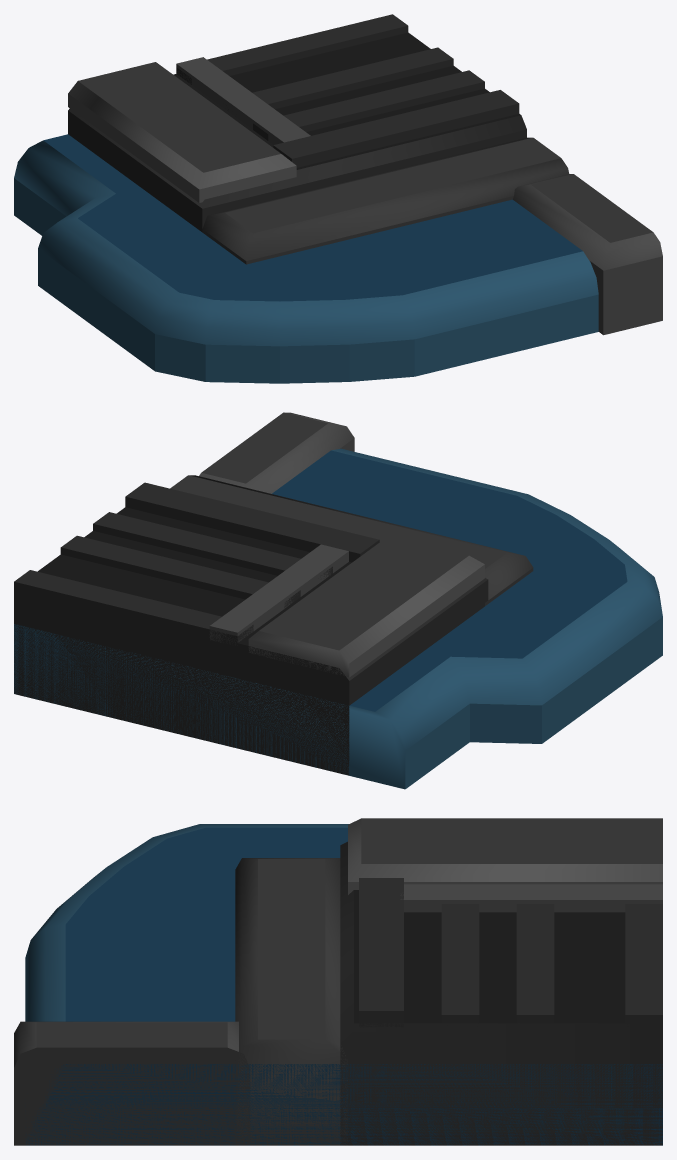
File: newsho-120.glb
The picture shows the model from 3 angles, top to bottom: view 1: azimuth 30°, elevation 25°; view 2: azimuth 150°, elevation 25°; view 3: azimuth 270°, elevation 25°; orthographic projection. The views are drawn at different scales.
Parts seen in each view (by area): view 1: newsho-120; view 2: newsho-120; view 3: newsho-120.
Part boxes in pixels (x1,y1,x2,y2): newsho-120: (14,14,662,383); newsho-120: (14,412,662,789); newsho-120: (14,818,662,1145).
Size of the model in its own units: 1.33 by 0.35 by 1.44.
